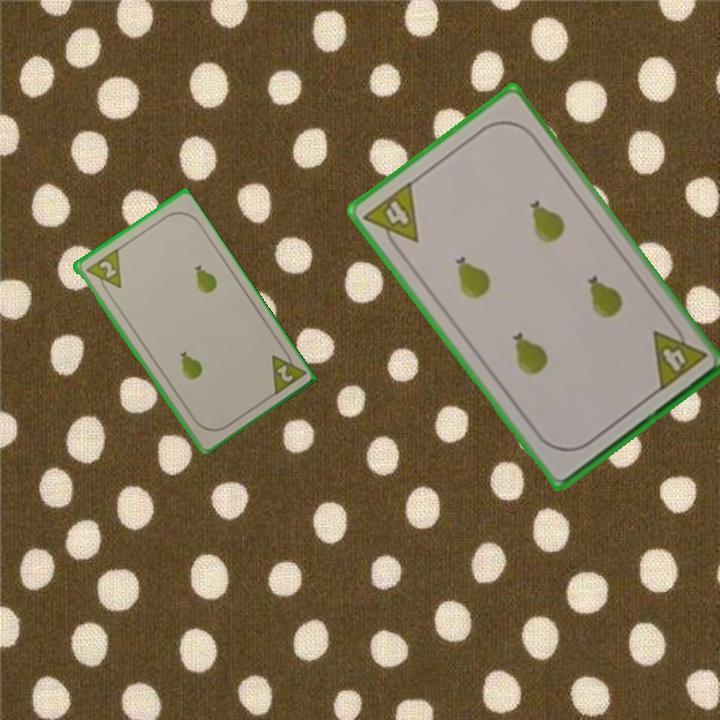2p: (267, 343, 307, 399), (95, 257, 119, 281)
4p: (359, 177, 422, 258), (648, 317, 709, 394)
